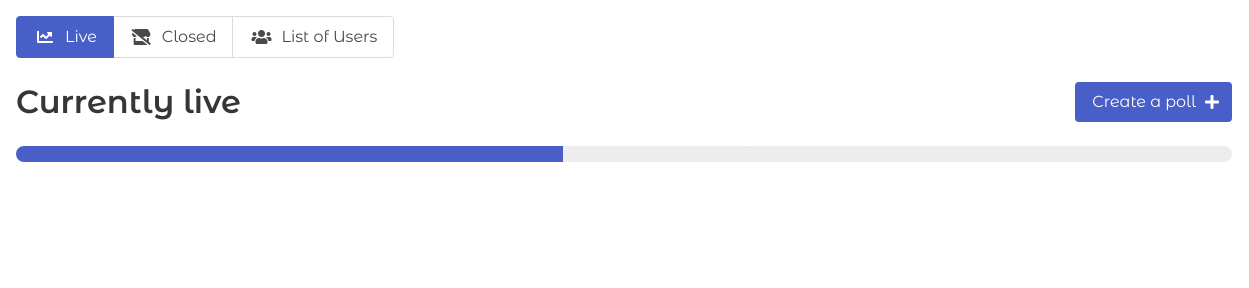
Test case: <Home /> for admin user › Switches to List of Users tab when clicked
Click the list item with test id "ListOfUsersTab" at point(313, 37), box [232, 16, 394, 58]
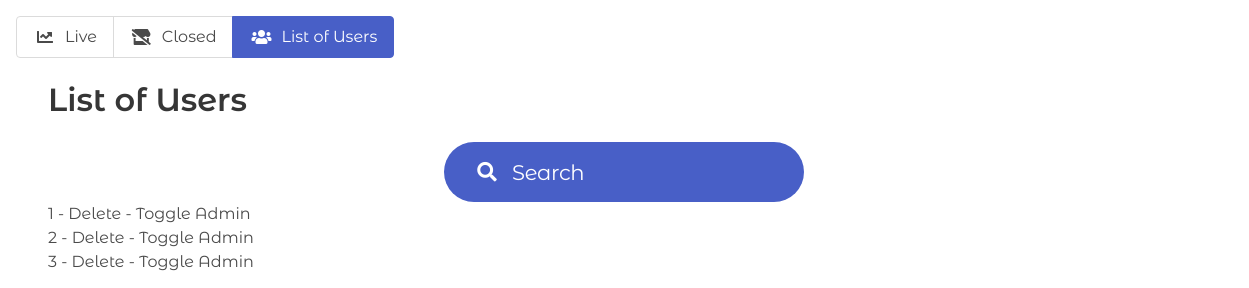
Result: the heading "List of Users" is shown at [48, 80, 247, 119]
